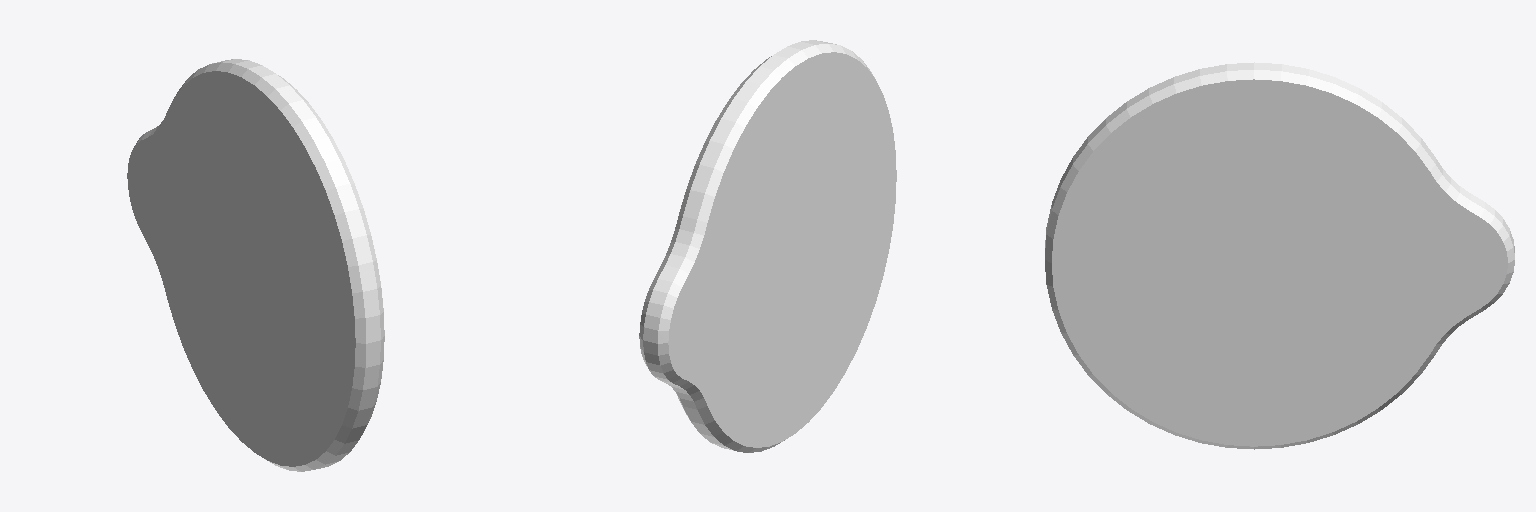
The model's file is racket.obj.
3 views of the same model, side by side, from view 1: azimuth 30°, elevation 25°; view 2: azimuth 150°, elevation 25°; view 3: azimuth 270°, elevation 25° (orthographic).
Bounding box in the file's own units: 0.012 × 0.15 × 0.1684.